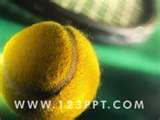tennis ball: (1, 19, 103, 119)
